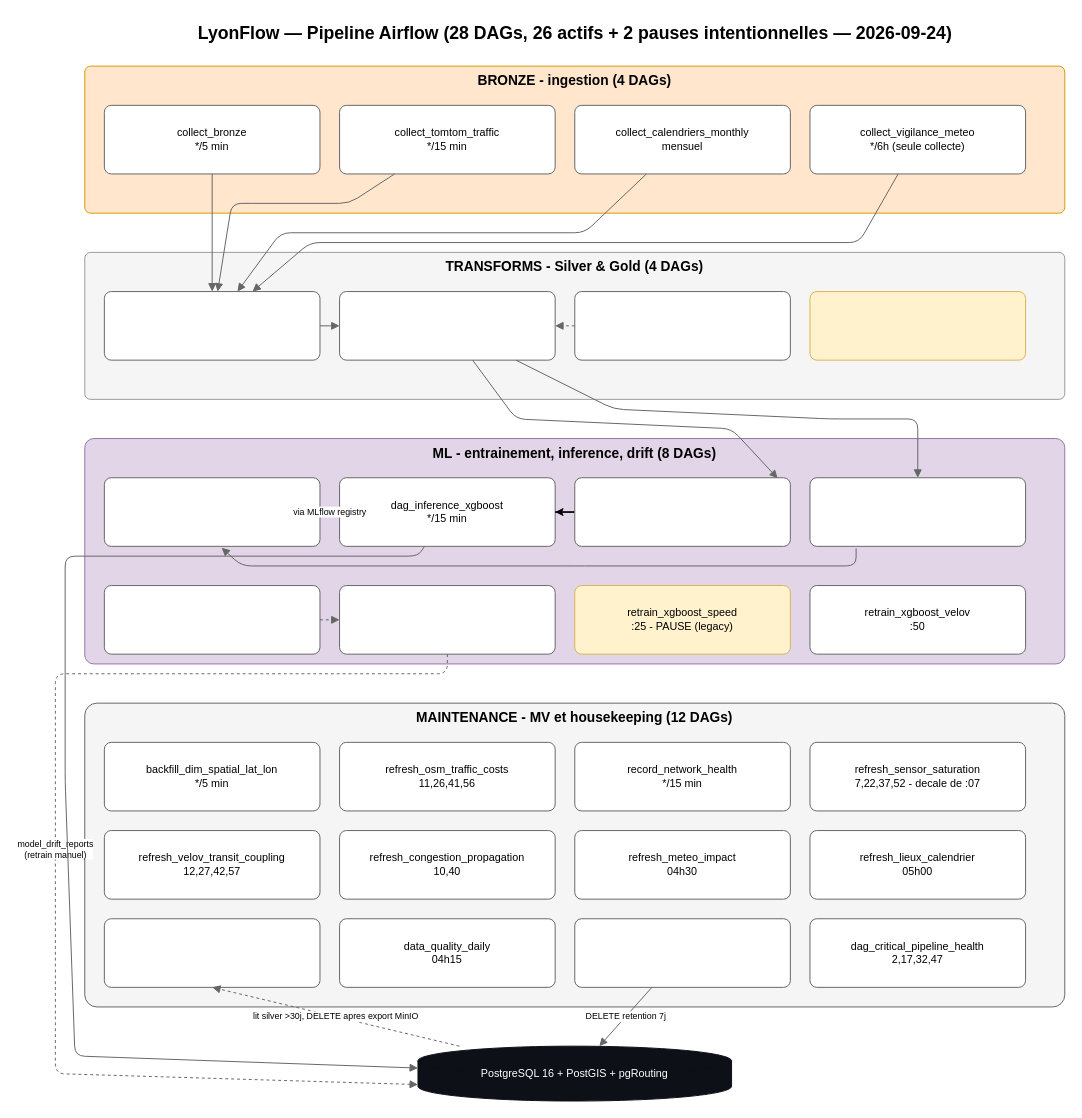
Image size: 1082x1118. Some labels were removed from this diagram. Each missing label, with the centre of its shape:
"build_spatial_mapping 02h30 - grille H3" goes at (x=682, y=325).
"build_xgb_training_set 02h30" goes at (x=917, y=511).
"dag_daily_speed_train 03h38" goes at (x=211, y=511).
"dag_inference_velov 4,19,34,49" goes at (x=682, y=511).
"daily_drift_report 05h30 - PSI + Evidently" goes at (x=447, y=619).
"purge_bronze 03h08" goes at (x=682, y=952).
"refresh_heavy_mv :15,:45 - PAUSE" goes at (x=917, y=325).
"refresh_xgb_vs_tomtom :05,:35 - support drift" goes at (x=211, y=619).
"silver_archive_to_minio 04h00" goes at (x=211, y=952).
"transform_bronze_to_silver 2-57/5 min" goes at (x=211, y=325).
"transform_silver_to_gold 5,20,35,50" goes at (x=447, y=325).
